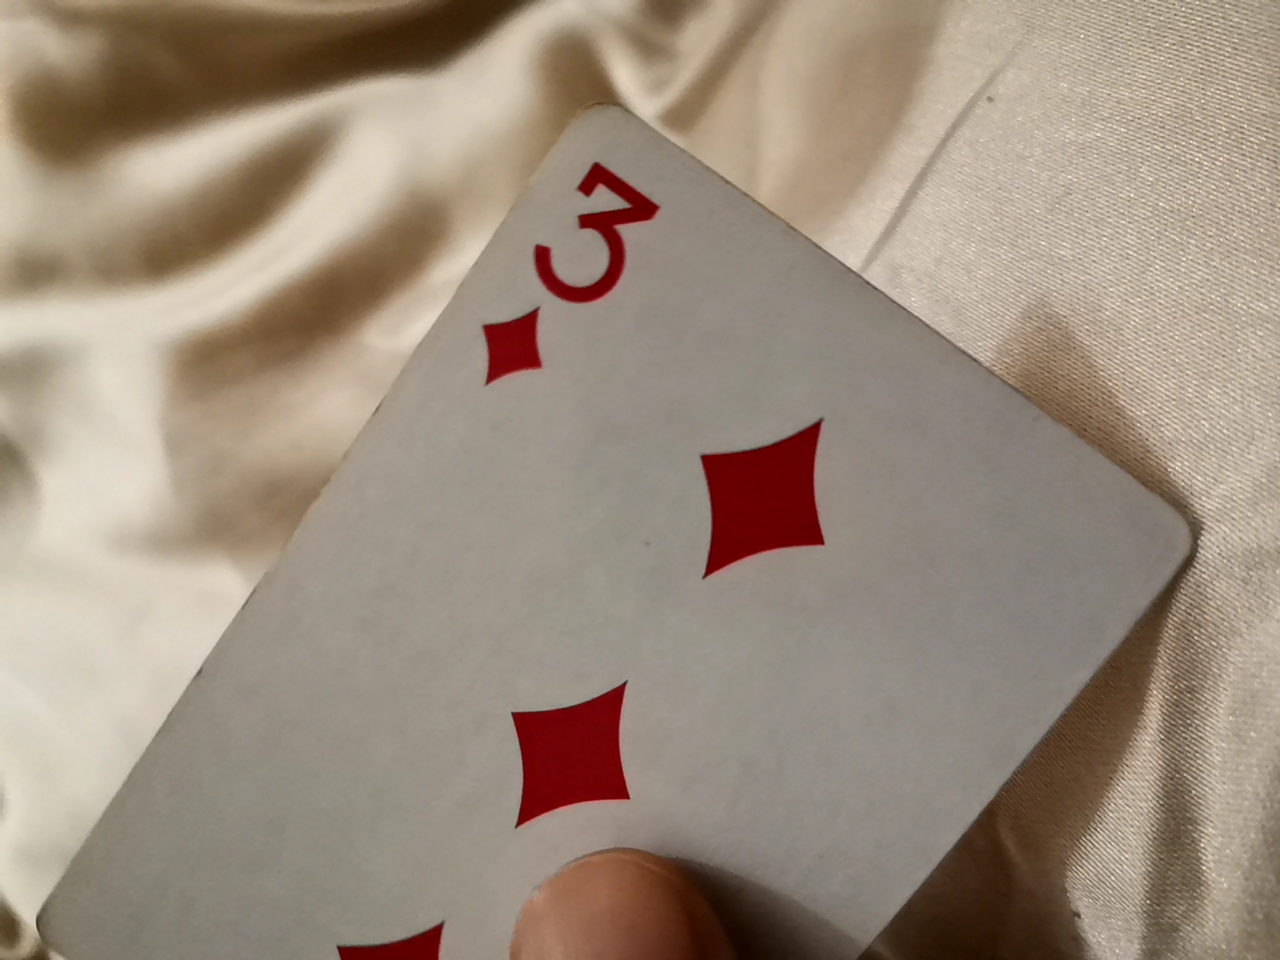fk 3: (86, 120, 1199, 954)
